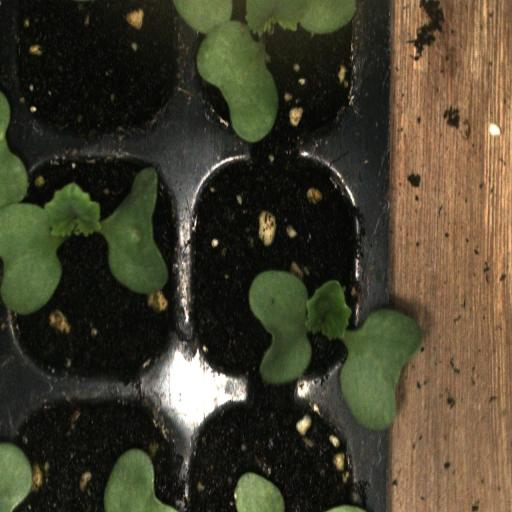noseedling: (12, 0, 182, 149)
seedling: (183, 152, 382, 398), (6, 152, 184, 392)
